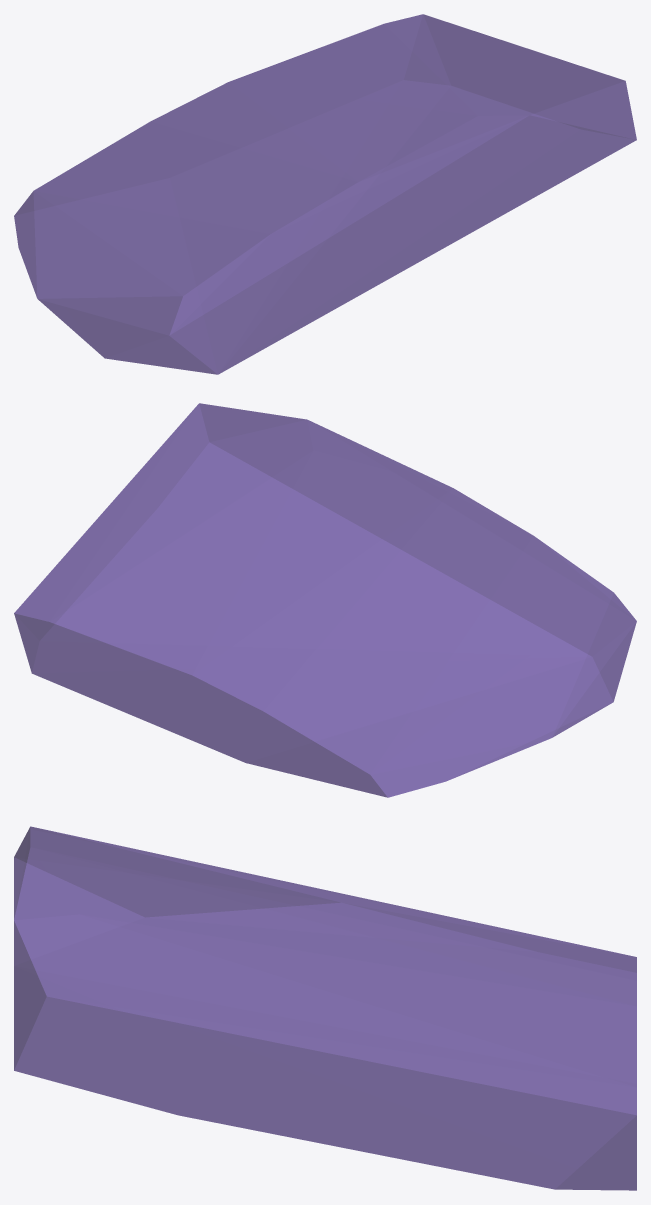
The picture shows the model from 3 angles, top to bottom: view 1: azimuth 30°, elevation 25°; view 2: azimuth 150°, elevation 25°; view 3: azimuth 270°, elevation 25°; orthographic projection. The views are drawn at different scales.
Visible parts, largest first — view 1: Shape_IndexedFaceSet.012_Shape_IndexedFaceSet.610; view 2: Shape_IndexedFaceSet.012_Shape_IndexedFaceSet.610; view 3: Shape_IndexedFaceSet.012_Shape_IndexedFaceSet.610.
Part boxes in pixels (x1,y1,x2,y2): Shape_IndexedFaceSet.012_Shape_IndexedFaceSet.610: [14, 14, 636, 374]; Shape_IndexedFaceSet.012_Shape_IndexedFaceSet.610: [14, 403, 636, 797]; Shape_IndexedFaceSet.012_Shape_IndexedFaceSet.610: [14, 826, 636, 1190].
Size of the model in its own units: 0.0931 by 0.0335 by 0.0708.
